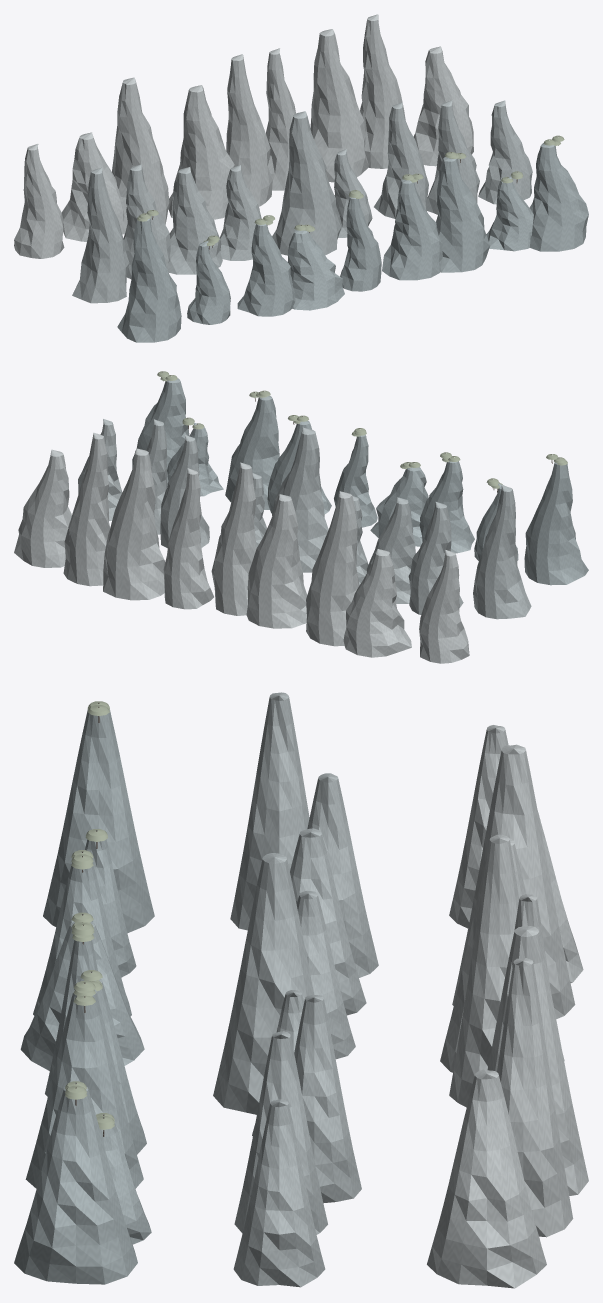
File: mountains.glb
3 views of the same model, one above another, from view 1: azimuth 30°, elevation 25°; view 2: azimuth 150°, elevation 25°; view 3: azimuth 270°, elevation 25° (orthographic). The views are drawn at different scales.
Size of the model in its own units: 74.39 by 22.18 by 45.21.
Materials: 5 (4 with a texture image).
